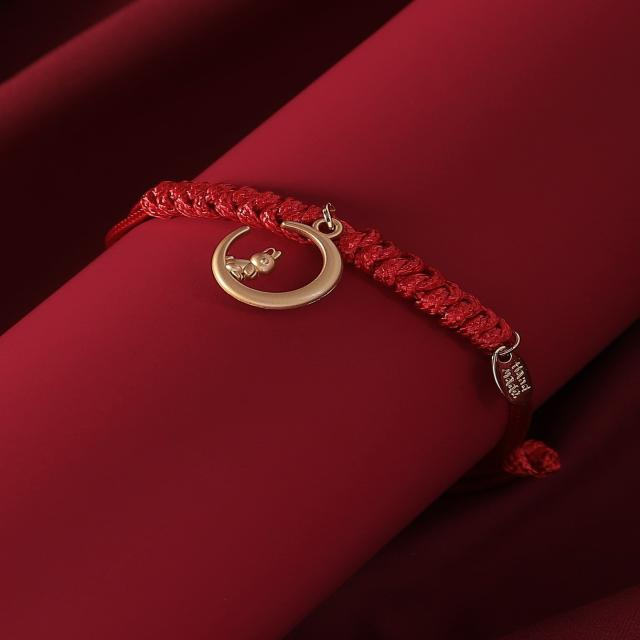bracelet: (59, 132, 640, 528)
